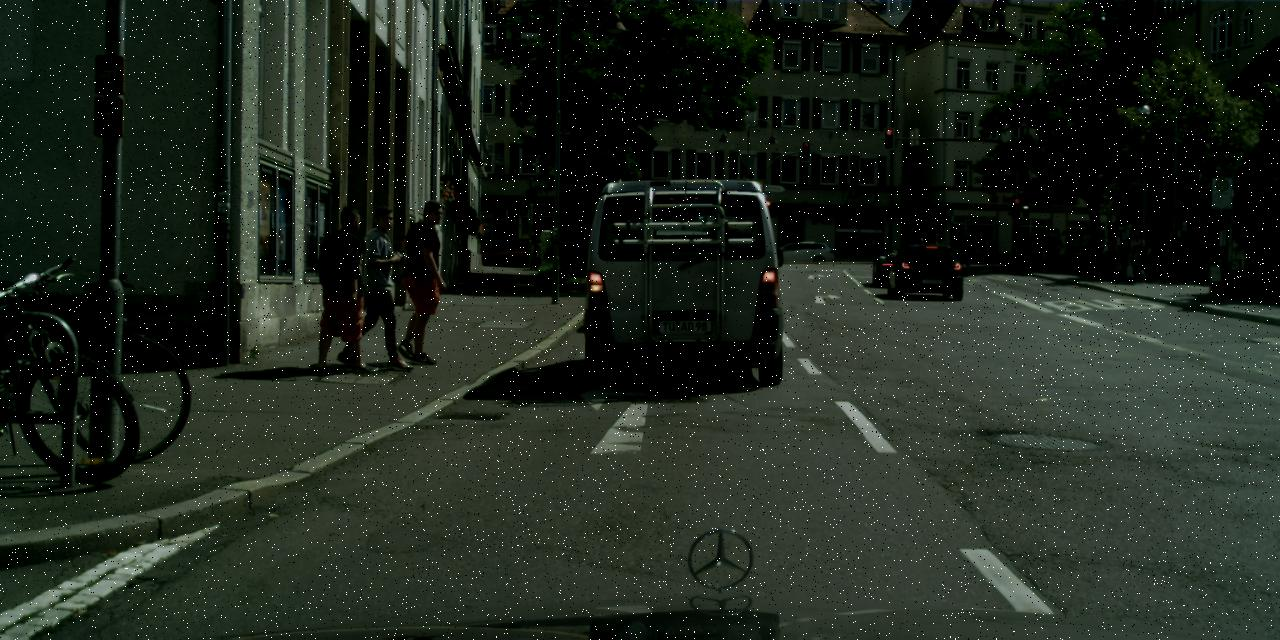ped: (312, 205, 380, 371), (389, 199, 455, 360), (345, 205, 411, 366), (1100, 229, 1120, 280), (1126, 232, 1146, 281), (1038, 228, 1054, 267), (1091, 230, 1107, 269), (1079, 227, 1094, 267), (1026, 231, 1040, 268), (956, 230, 970, 266), (1020, 230, 1032, 261), (981, 234, 992, 264), (973, 237, 984, 263), (931, 232, 941, 258), (962, 238, 972, 264)
